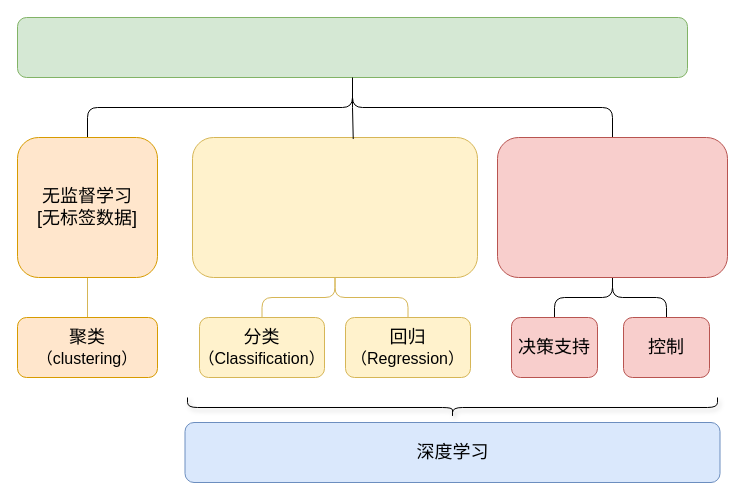
This 745x500 diagram has some shape labels left out. The centre of each missing label's shape, as x and y in pixels:
"强化学习 [交互数据]" belongs at point (612, 207).
"有监督学习 [有标签数据]" belongs at point (335, 207).
"机器学习" belongs at point (352, 47).
